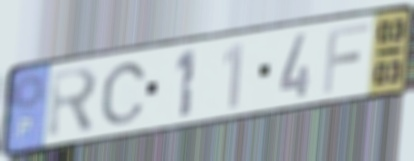1: (222, 40, 246, 112), (174, 46, 197, 118)
4: (278, 31, 313, 100)
C: (99, 60, 150, 127)
F: (320, 19, 372, 96)
R: (45, 64, 101, 143)
